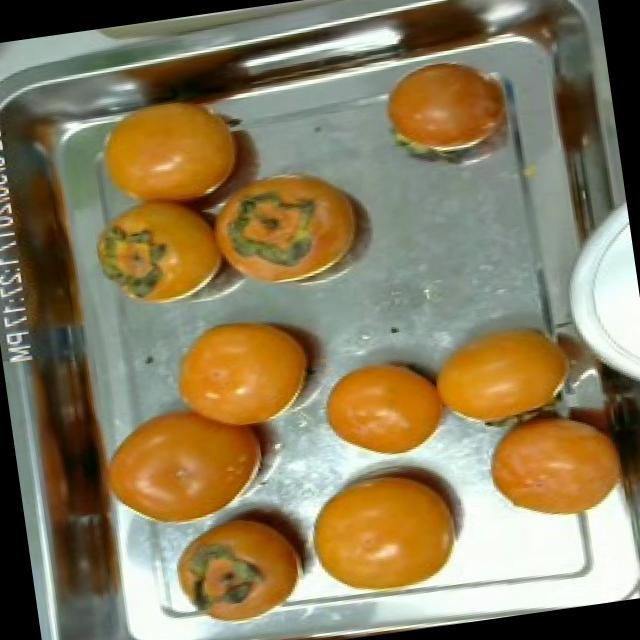Fruit: (84, 380, 295, 540), (74, 79, 284, 237), (286, 443, 484, 607), (413, 294, 619, 438), (152, 294, 336, 454), (73, 179, 250, 328), (469, 395, 640, 541), (154, 494, 330, 632), (305, 335, 474, 475), (367, 47, 526, 182)
